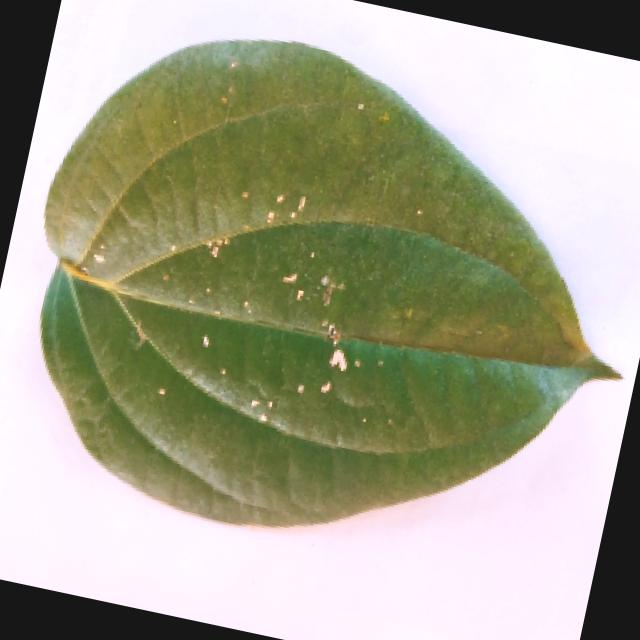pollu-disease: (4, 0, 640, 582)
